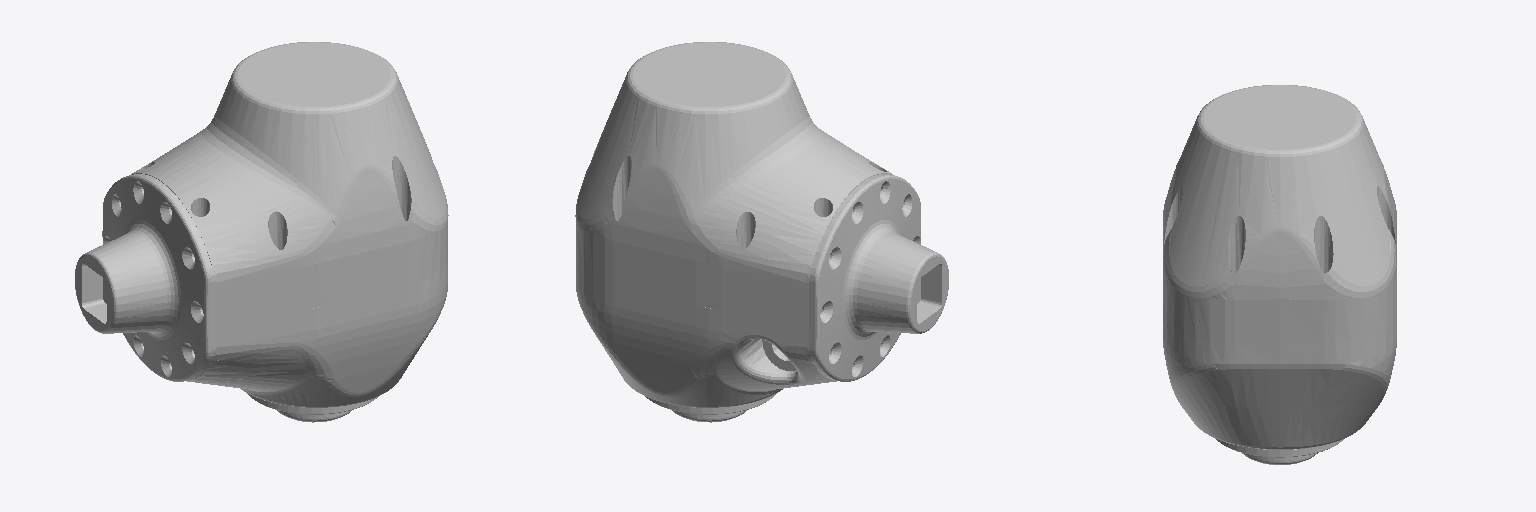
File: shoulderT_right.obj
3 renders of one model, left to right at view 1: azimuth 30°, elevation 25°; view 2: azimuth 150°, elevation 25°; view 3: azimuth 270°, elevation 25°, orthographic.
Parts seen in each view (by area): view 1: shoulder_right.001; view 2: shoulder_right.001; view 3: shoulder_right.001.
Boxes of the visible parts, x1=… form: shoulder_right.001: x1=75, y1=42, x2=448, y2=422; shoulder_right.001: x1=575, y1=42, x2=948, y2=422; shoulder_right.001: x1=1163, y1=85, x2=1396, y2=464.
Bounding box in the file's own units: 0.1535 × 0.1513 × 0.0965.